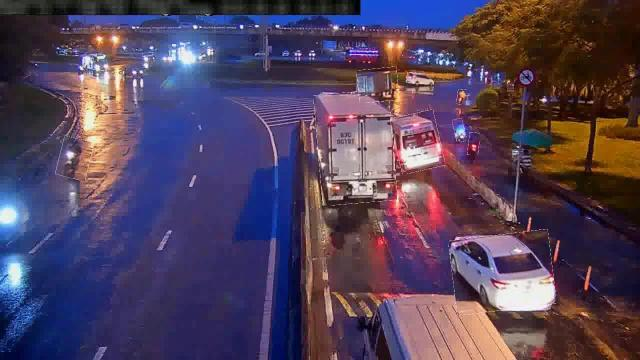Bike: (58, 137, 92, 179), (454, 118, 466, 142), (468, 132, 479, 156), (457, 89, 468, 104)
Bus: (393, 112, 443, 172)
Car: (450, 231, 554, 312), (406, 72, 434, 84)
Truck: (316, 91, 396, 205), (358, 68, 398, 102)
